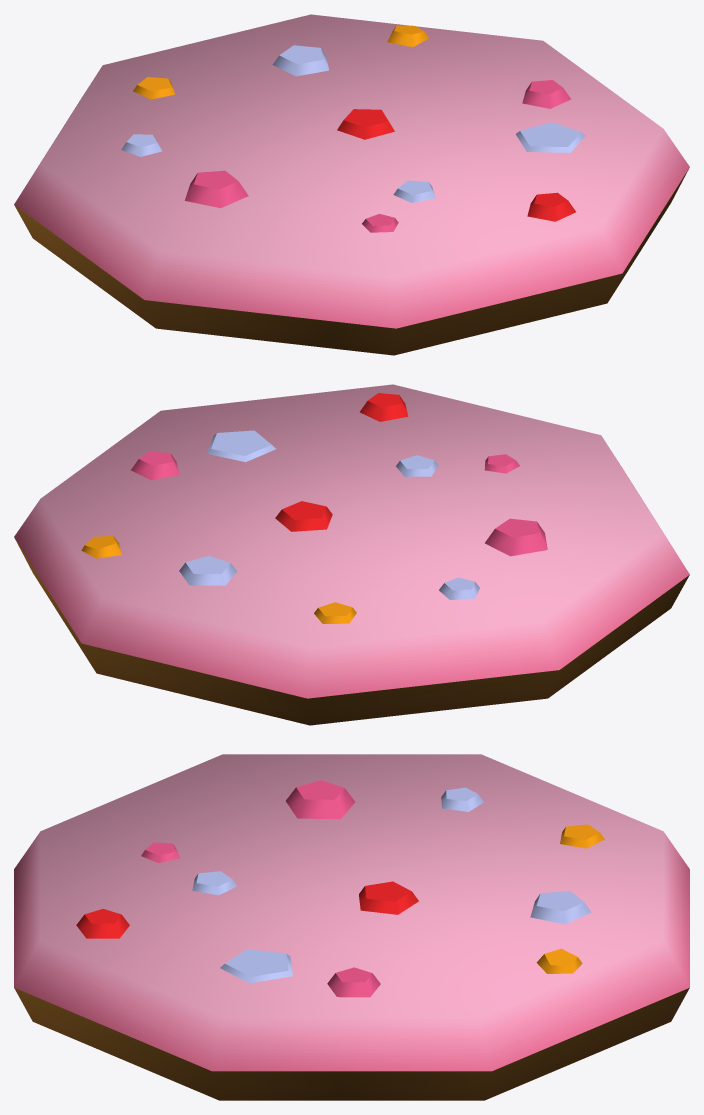
Rendered from Cookie_1_B.fbx.
3 views of the same model, one above another, from view 1: azimuth 30°, elevation 25°; view 2: azimuth 150°, elevation 25°; view 3: azimuth 270°, elevation 25° (orthographic). The views are drawn at different scales.
Parts seen in each view (by area): view 1: Cookie_1_B; view 2: Cookie_1_B; view 3: Cookie_1_B.
Boxes of the visible parts, <box> form: Cookie_1_B: <box>14,14,689,355</box>; Cookie_1_B: <box>14,384,689,725</box>; Cookie_1_B: <box>14,754,689,1100</box>.
Bounding box in the file's own units: 13.51 × 2.1 × 13.51.
